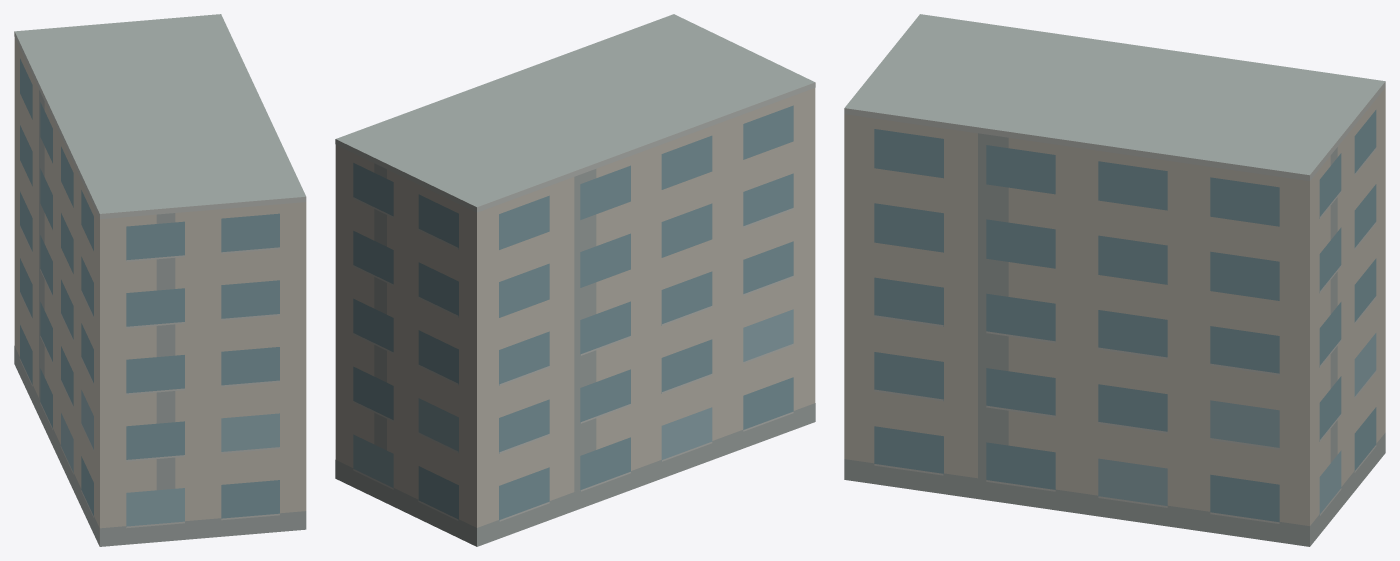
File: residential-824eecec-1952-4f2d-ab33-faeaa6db091e.glb
3 renders of one model, left to right at view 1: azimuth 30°, elevation 25°; view 2: azimuth 150°, elevation 25°; view 3: azimuth 270°, elevation 25°, orthographic. The views are drawn at different scales.
Parts seen in each view (by area): view 1: residential-824eecec-1952-4f2d-ab33-faeaa6db091e.tmp; view 2: residential-824eecec-1952-4f2d-ab33-faeaa6db091e.tmp; view 3: residential-824eecec-1952-4f2d-ab33-faeaa6db091e.tmp.
Boxes of the visible parts, x1,y1,x2,y2 form: residential-824eecec-1952-4f2d-ab33-faeaa6db091e.tmp: (14,14,306,546); residential-824eecec-1952-4f2d-ab33-faeaa6db091e.tmp: (335,14,815,546); residential-824eecec-1952-4f2d-ab33-faeaa6db091e.tmp: (844,14,1385,546).
Size of the model in its own units: 14.19 by 15.25 by 20.14.
